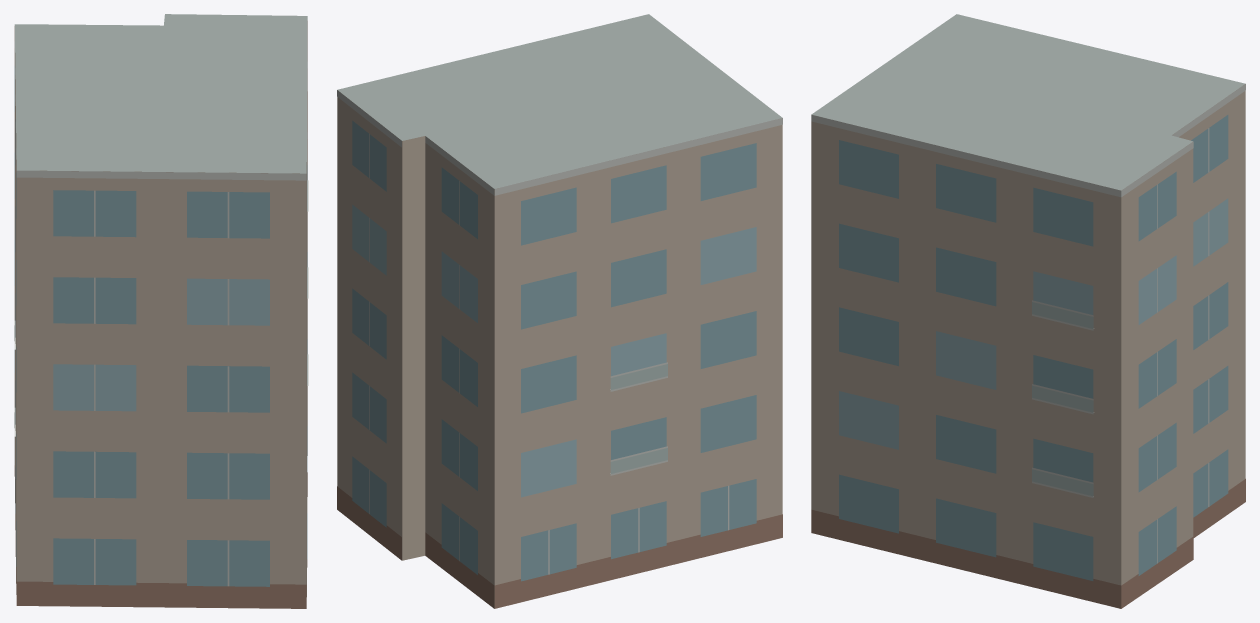
Rendered from survey-upis-32880570.glb.
The picture shows the model from 3 angles, left to right: view 1: azimuth 30°, elevation 25°; view 2: azimuth 150°, elevation 25°; view 3: azimuth 270°, elevation 25°; orthographic projection. The views are drawn at different scales.
Parts seen in each view (by area): view 1: survey-upis-32880570.tmp; view 2: survey-upis-32880570.tmp; view 3: survey-upis-32880570.tmp.
Boxes of the visible parts, x1,y1,x2,y2 form: survey-upis-32880570.tmp: (14, 14, 308, 608); survey-upis-32880570.tmp: (337, 14, 782, 608); survey-upis-32880570.tmp: (811, 14, 1245, 608).
Bounding box in the file's own units: 13.59 × 15 × 14.13.
